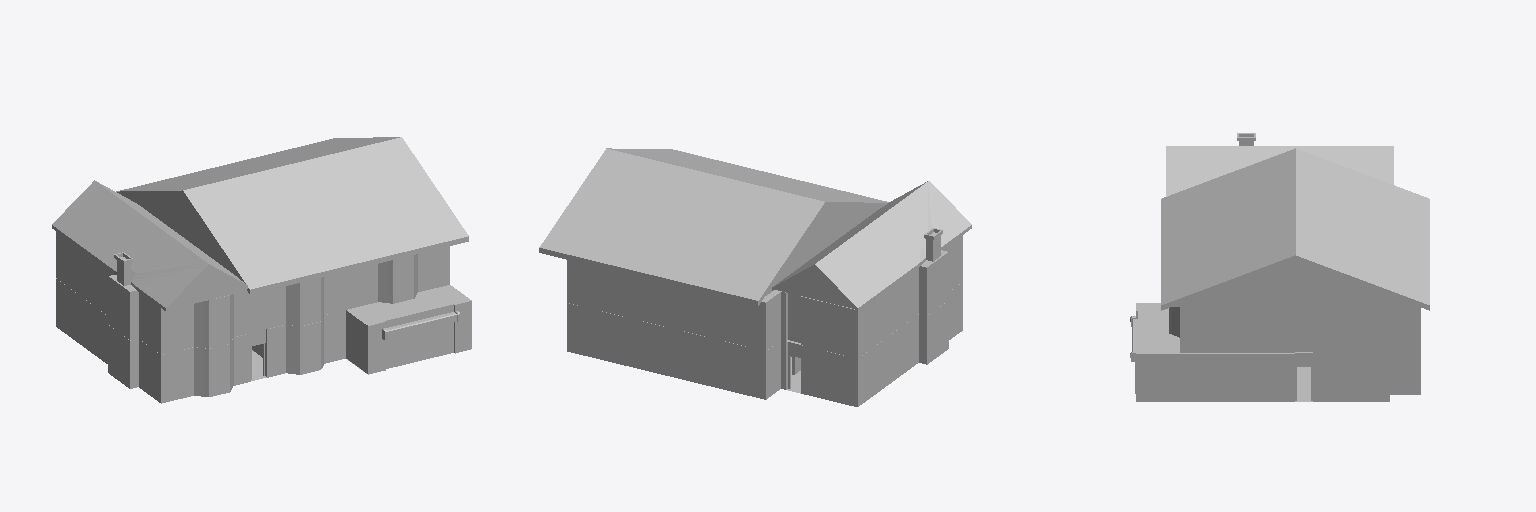
Rendered from casaFinal.obj.
3 views of the same model, side by side, from view 1: azimuth 30°, elevation 25°; view 2: azimuth 150°, elevation 25°; view 3: azimuth 270°, elevation 25° (orthographic).
Parts seen in each view (by area): view 1: Plane.004; view 2: Plane.004; view 3: Plane.004.
Part boxes in pixels (x1,y1,x2,y2): Plane.004: (52, 137, 471, 403); Plane.004: (539, 148, 971, 406); Plane.004: (1130, 133, 1429, 401).
Bounding box in the file's own units: 13.27 × 6.25 × 11.18.